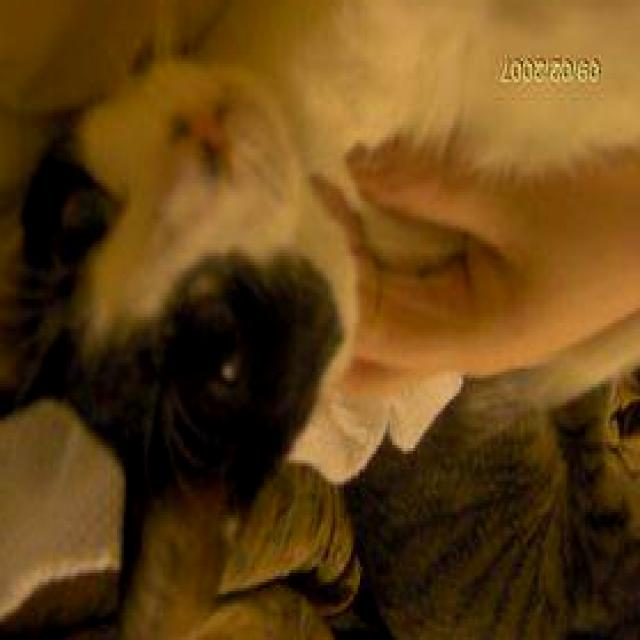Kucing: (0, 24, 376, 579)
